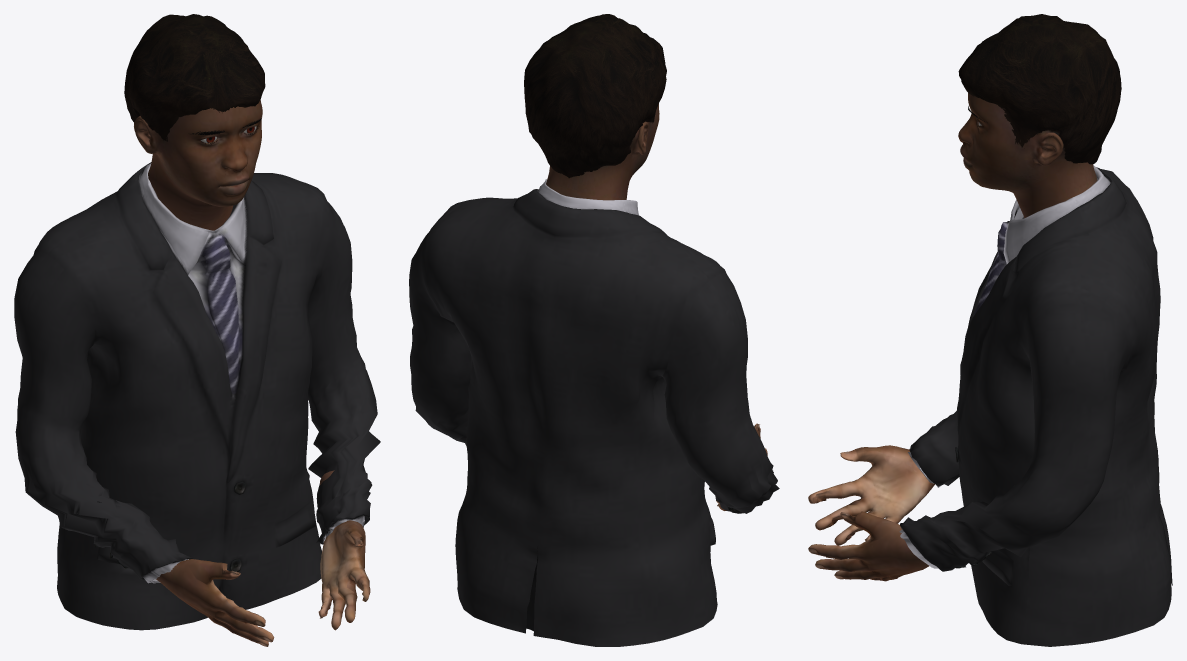
Rendered from m_young_af.glb.
3 renders of one model, left to right at view 1: azimuth 30°, elevation 25°; view 2: azimuth 150°, elevation 25°; view 3: azimuth 270°, elevation 25°, orthographic.
Visible parts, largest first — view 1: Human.male_elegantsuit01, Human, Human.short02; view 2: Human.male_elegantsuit01, Human.short02, Human; view 3: Human.male_elegantsuit01, Human, Human.short02.
Part boxes in pixels (x1,y1,x2,y2): Human.male_elegantsuit01: [14, 162, 380, 630]; Human: [134, 100, 370, 646]; Human.short02: [124, 14, 265, 141]; Human.male_elegantsuit01: [409, 179, 779, 646]; Human.short02: [524, 14, 666, 178]; Human: [546, 103, 767, 510]; Human.male_elegantsuit01: [899, 165, 1172, 646]; Human: [808, 93, 1097, 581]; Human.short02: [958, 14, 1121, 164].
Bounding box in the file's own units: 0.5016 × 0.7891 × 0.4613.
9 materials, 9 textured.
